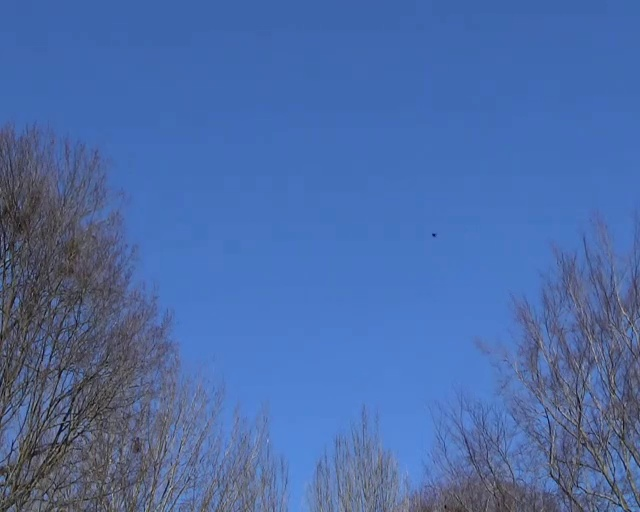BIRD: (431, 232, 438, 237)
